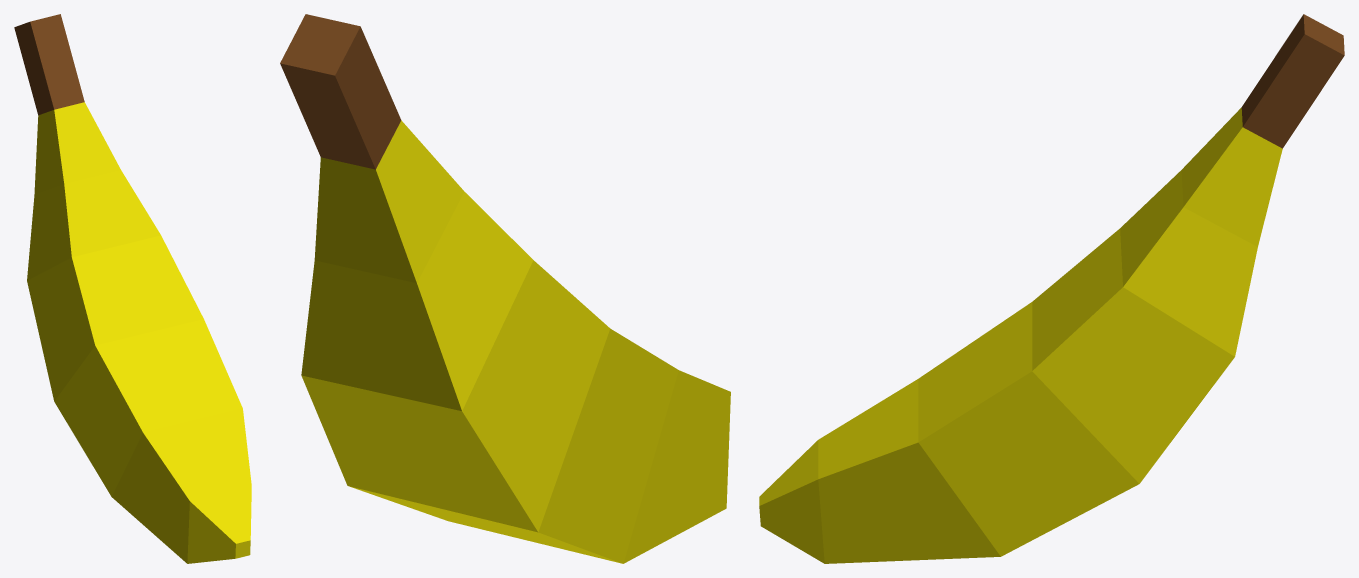
File: banana_model.gltf
The picture shows the model from 3 angles, left to right: view 1: azimuth 30°, elevation 25°; view 2: azimuth 150°, elevation 25°; view 3: azimuth 270°, elevation 25°; orthographic projection. The views are drawn at different scales.
Parts seen in each view (by area): view 1: Cube; view 2: Cube; view 3: Cube.
Boxes of the visible parts, bbox=[...] form: Cube: bbox=[14, 14, 251, 563]; Cube: bbox=[280, 14, 730, 563]; Cube: bbox=[759, 14, 1344, 563].
Size of the model in its own units: 0.1526 by 0.5394 by 0.5433.
